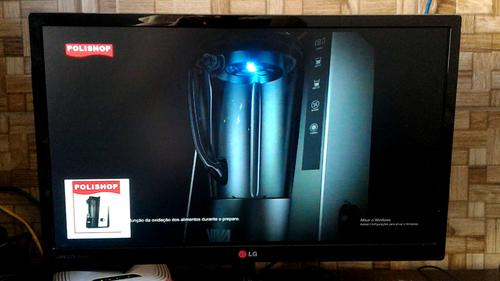Polishop #1: (65, 178, 131, 238)
